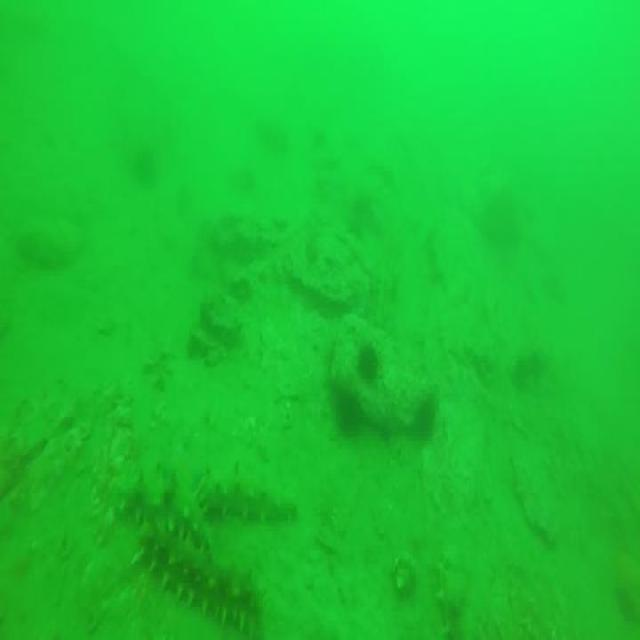echinus: (333, 392, 361, 439), (355, 344, 383, 384), (419, 408, 442, 442)
holothurian: (135, 518, 264, 640), (114, 466, 210, 566), (191, 468, 303, 518), (436, 543, 479, 640)
